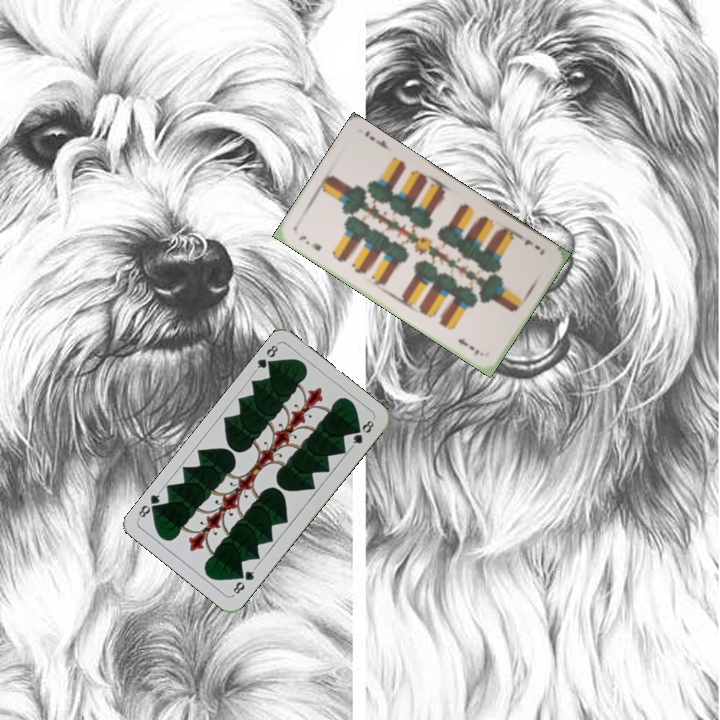E7: (295, 231, 324, 254), (520, 236, 548, 258)
G8: (251, 340, 281, 374), (229, 563, 258, 598)
